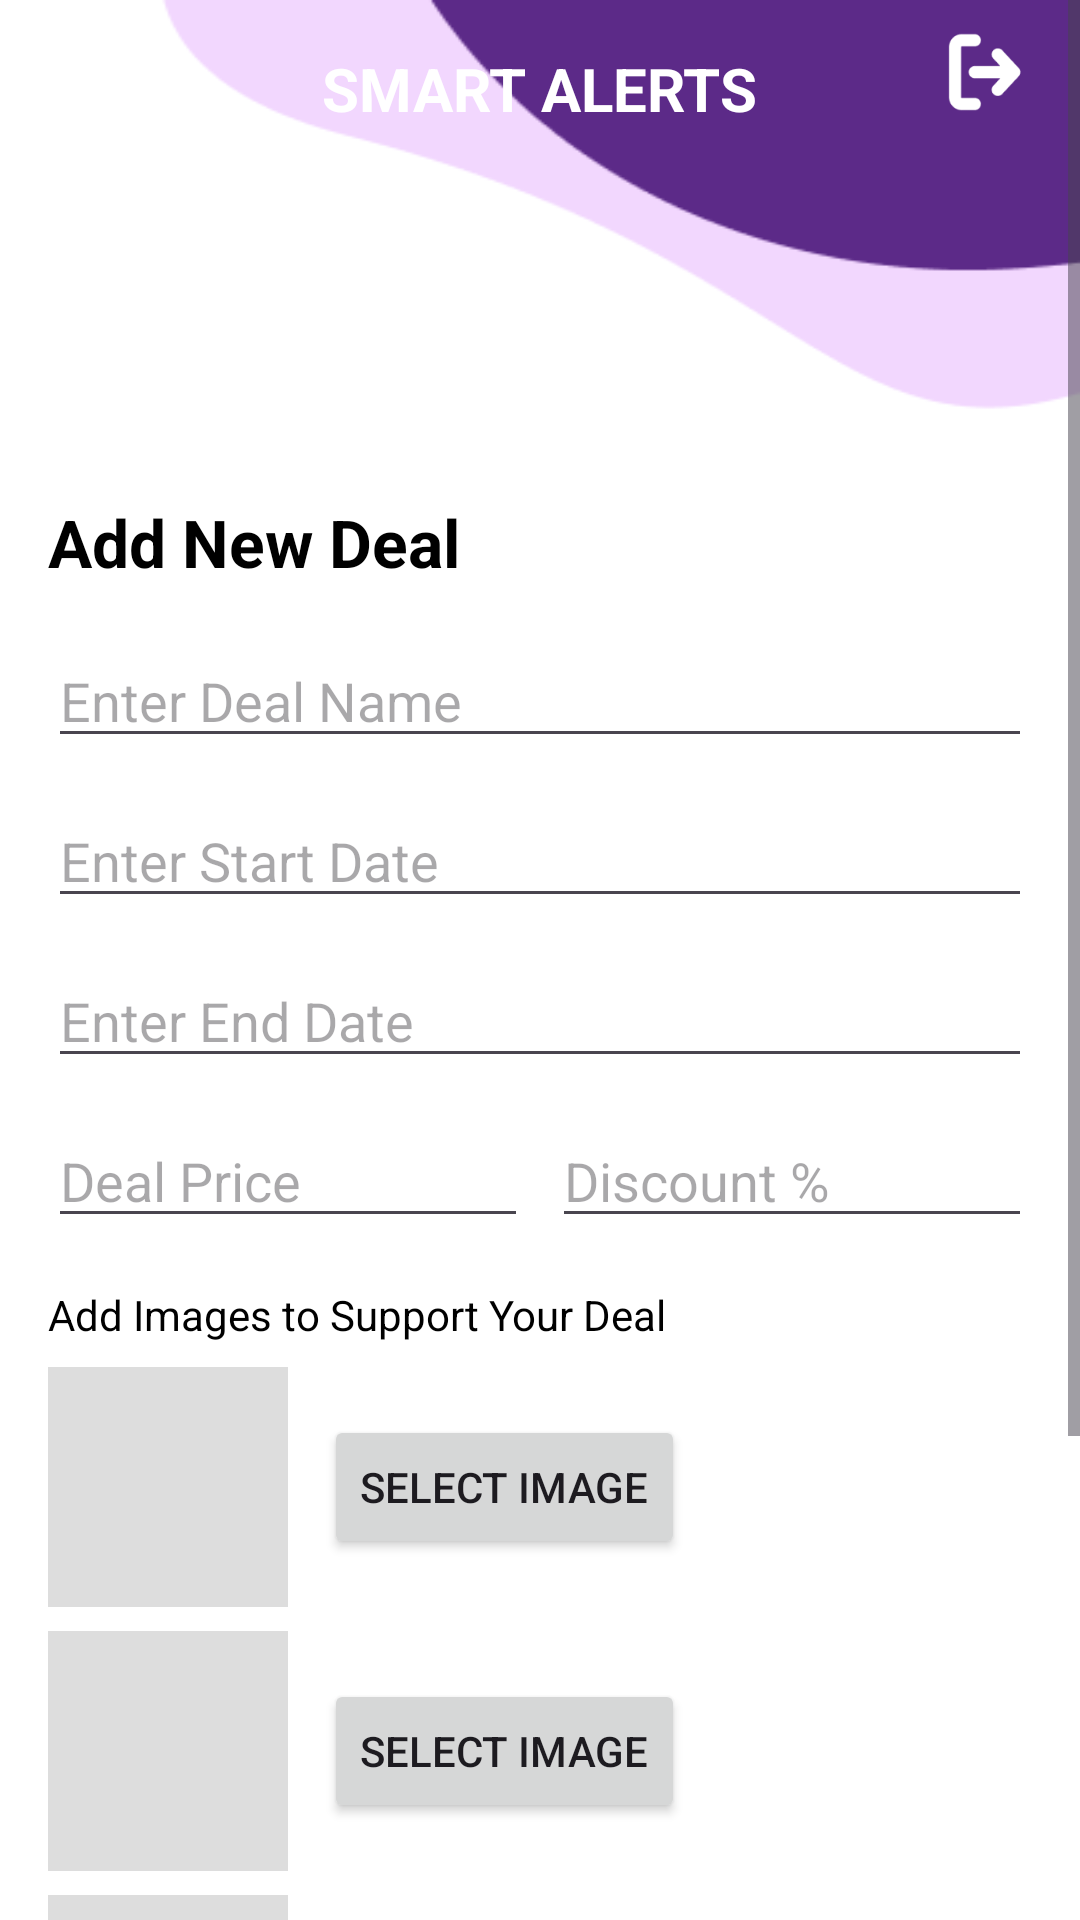

Icons on this 1080px x 1920px Android screen, each with the point to tap as point (x, y):
Exit: point (985, 72)
